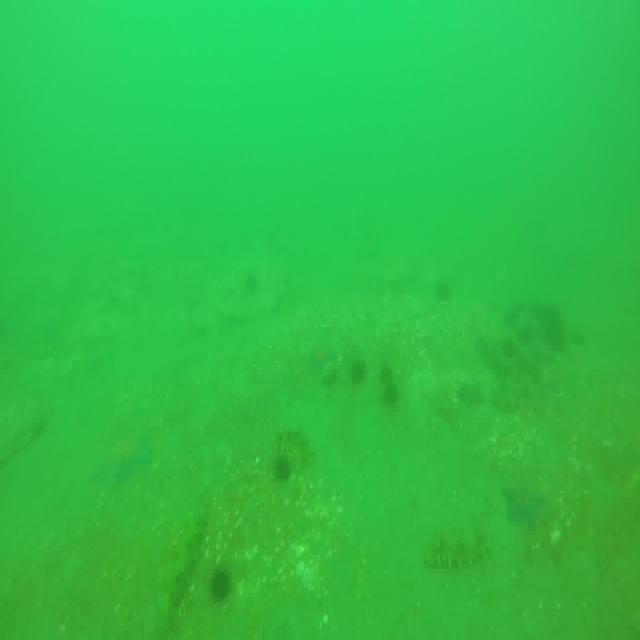echinus: (207, 563, 236, 597), (351, 359, 369, 391), (276, 454, 293, 486), (382, 385, 399, 410), (432, 280, 451, 302), (378, 367, 396, 389), (246, 271, 260, 291)
holothurian: (170, 499, 208, 607), (422, 529, 492, 569), (432, 381, 478, 435), (476, 333, 518, 379), (493, 378, 546, 412), (271, 428, 313, 461)
starfish: (96, 435, 150, 492), (502, 483, 551, 529), (309, 342, 337, 375)
